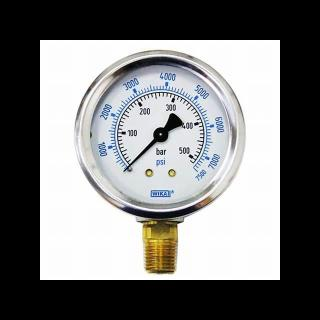gauge: (55, 41, 249, 227), (118, 159, 134, 177), (152, 126, 168, 142), (187, 158, 201, 174), (121, 166, 130, 174)
